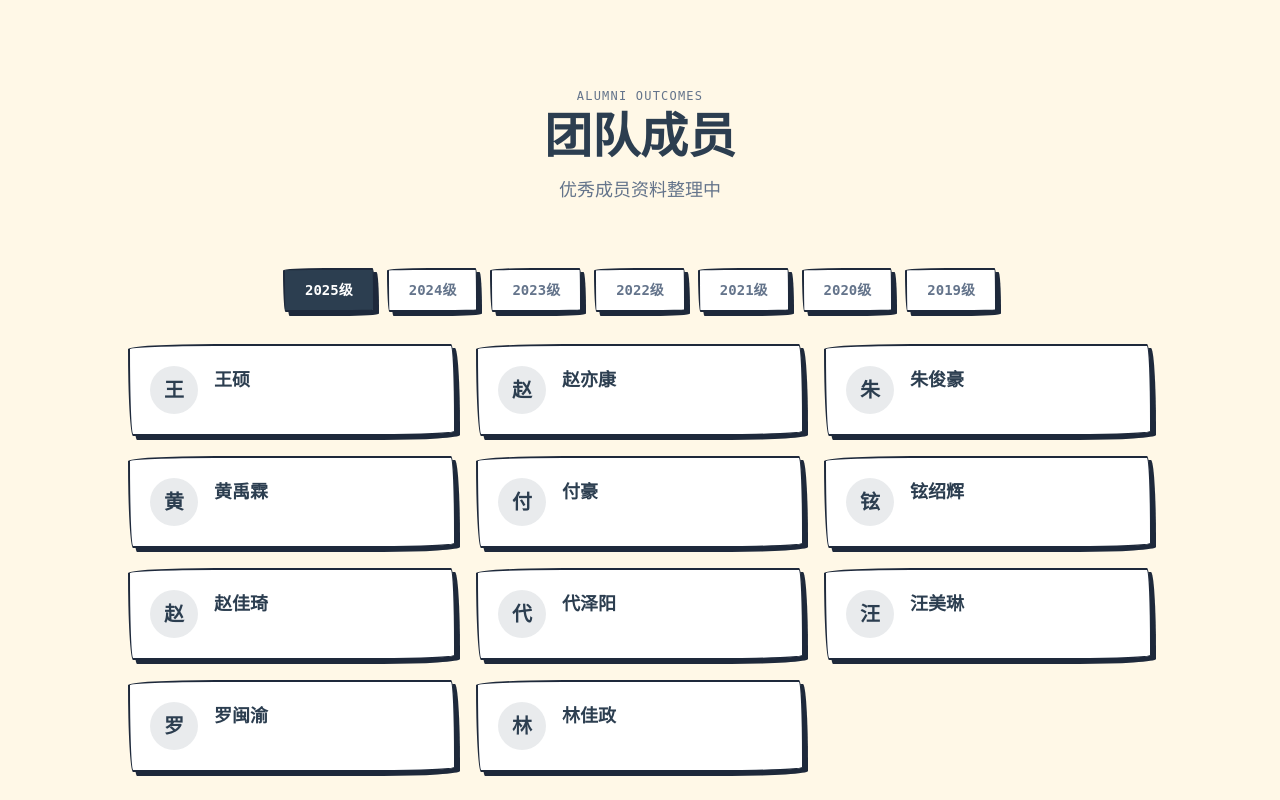
Test: shows current members without destinations and labels 2022 outcomes
Click the tab "2023级" at (536, 290), box [490,268,582,312]
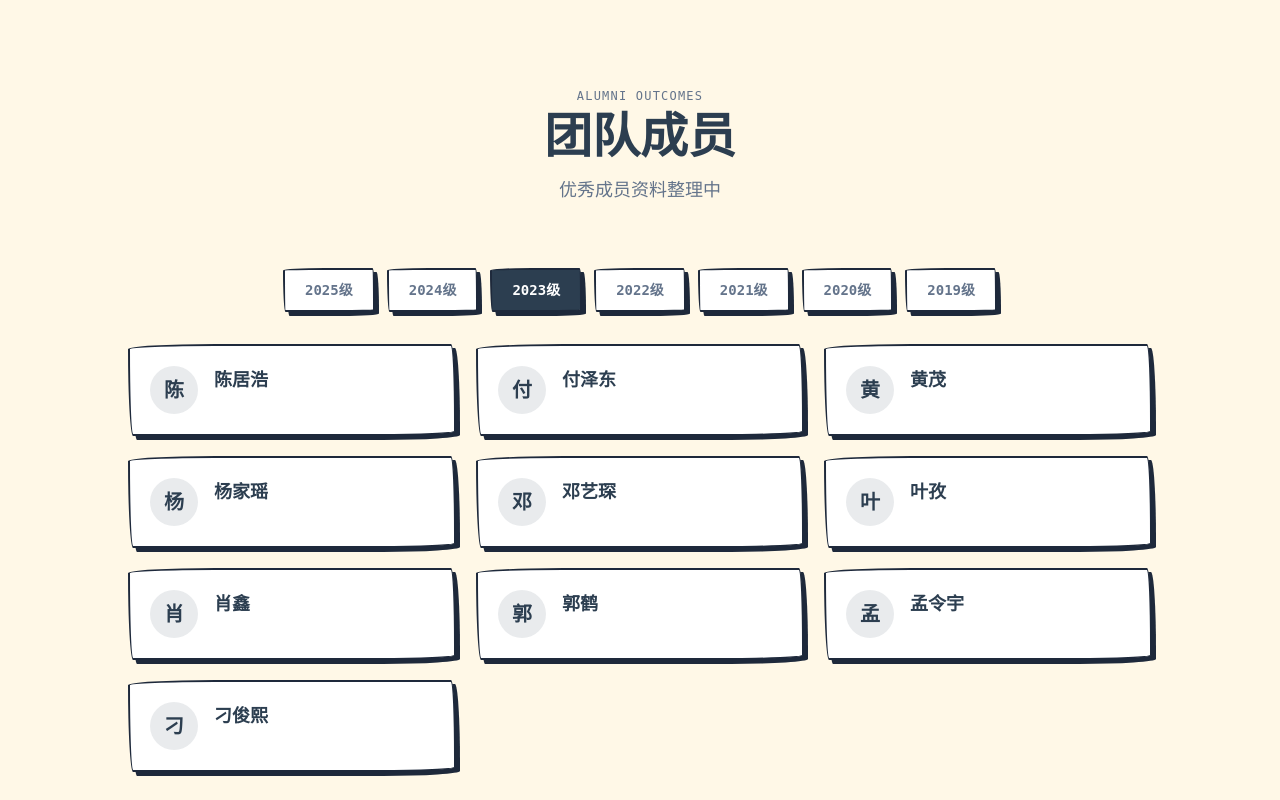
Expected: the element "陈居浩" does not show "美团", [128,344,456,436]
Click the tab "2022级" at (640, 290), box [594,268,686,312]
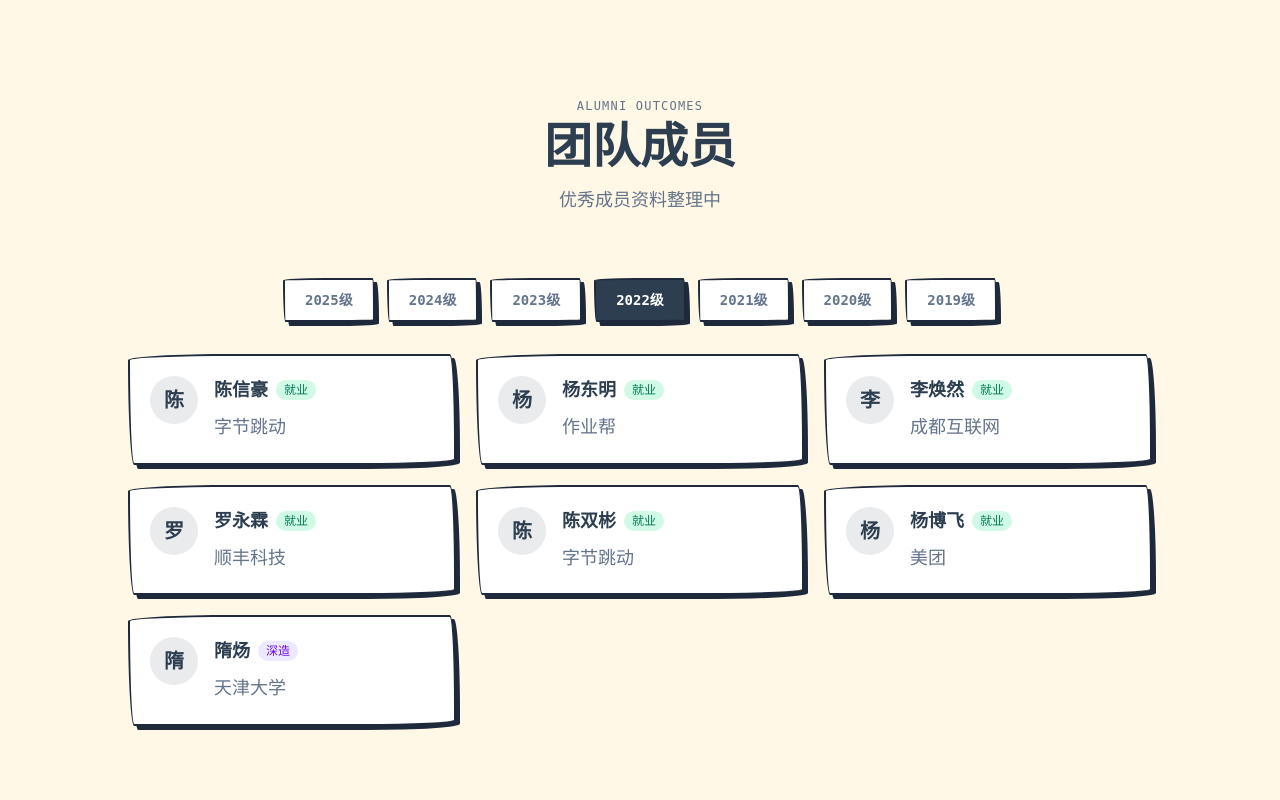
Result: the element "陈信豪" shows "就业" at [284,383,308,397]
Result: the element "隋炀" shows "深造" at [266,644,290,658]
